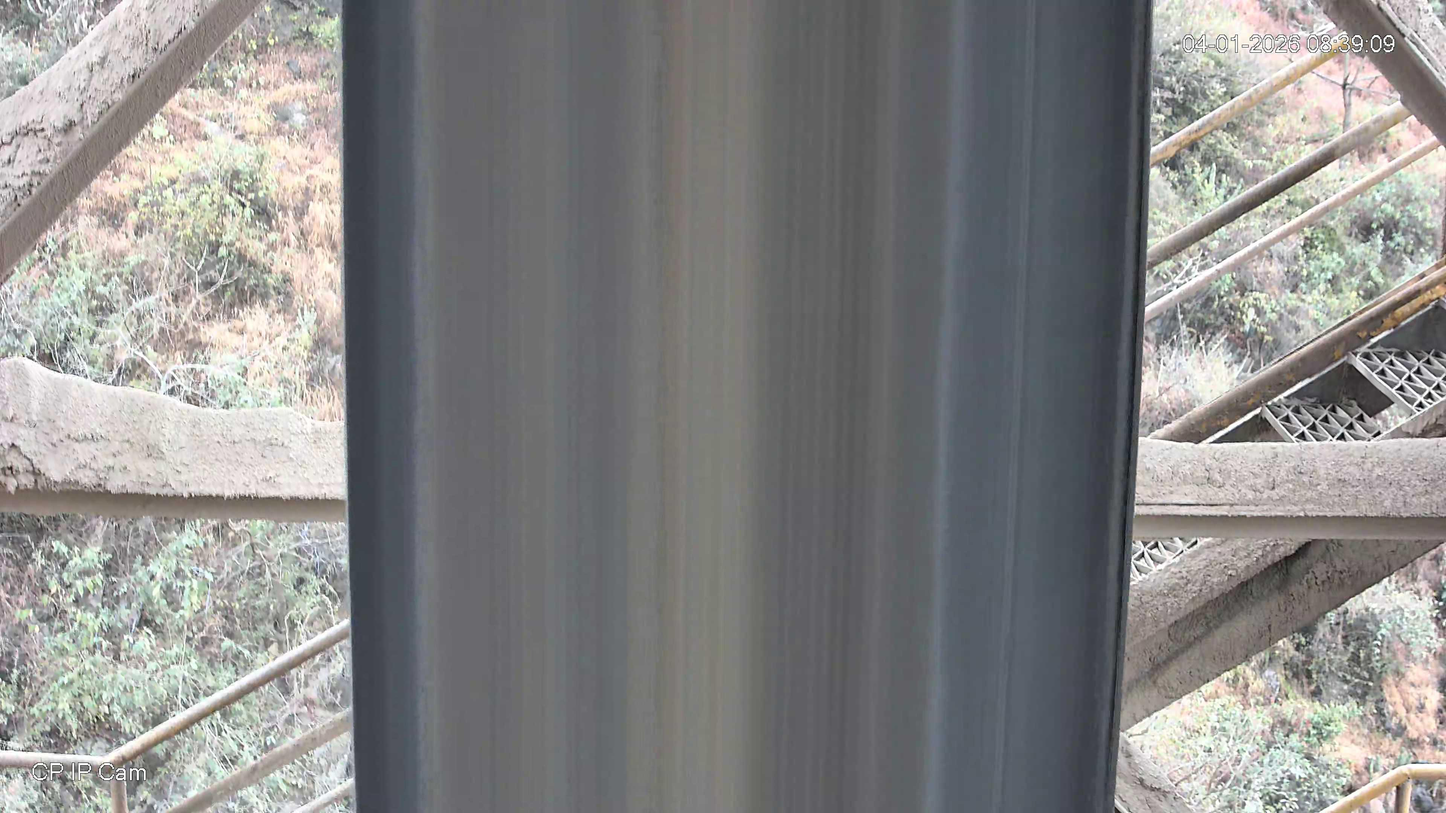belt_roi: (342, 0, 1154, 813)
